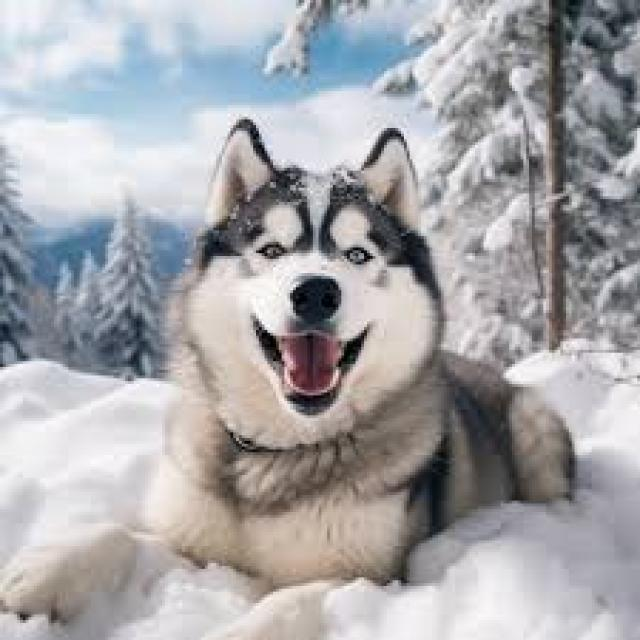ALASKAN_MALAMUTE: (2, 99, 577, 640)
